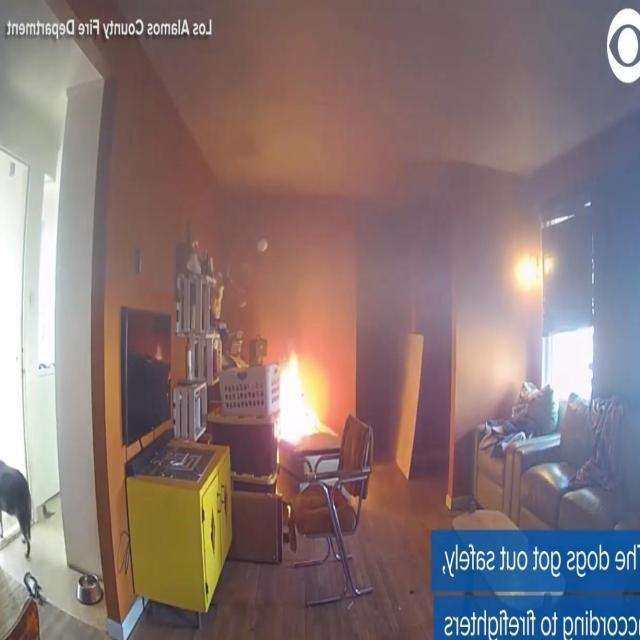smoke: (274, 354, 328, 436)
